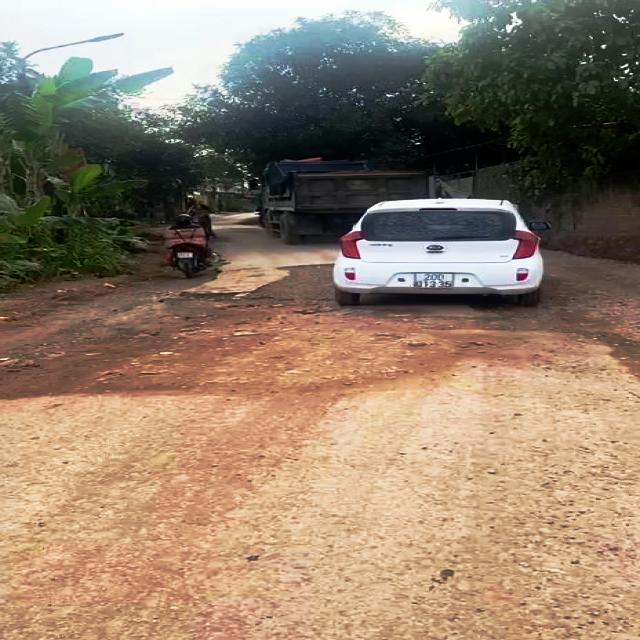pothole: (41, 293, 452, 388), (458, 296, 640, 376), (233, 256, 346, 312)
